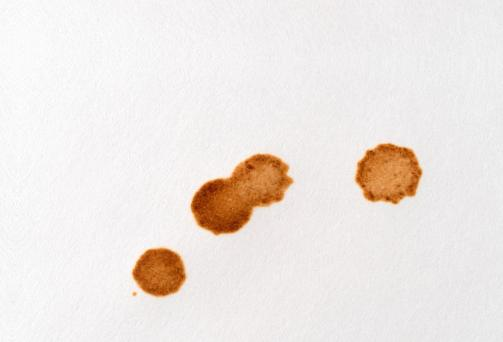stain: (192, 150, 297, 237), (350, 140, 429, 206), (127, 243, 192, 301)
